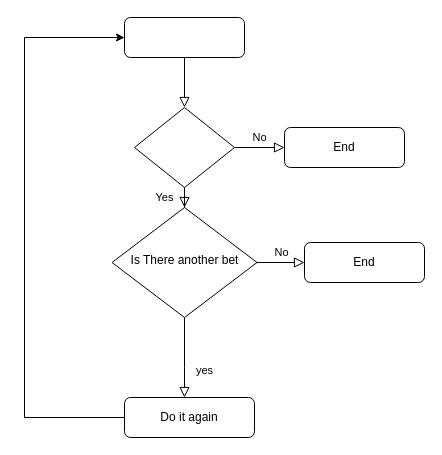
Image size: 442x455. Some labels were removed from this diagram. The shapes that lost their labels are listed below. From the top down, each one's box as (x1, y1, x2, y2) in pixels, then its label:
(124, 16, 244, 58): Enter Your Name
(134, 106, 234, 188): Place your bid
